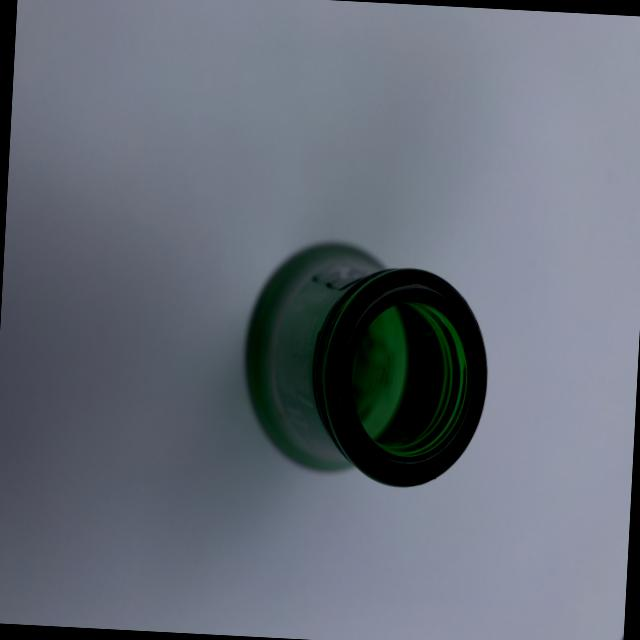Glass: (208, 203, 525, 505)
